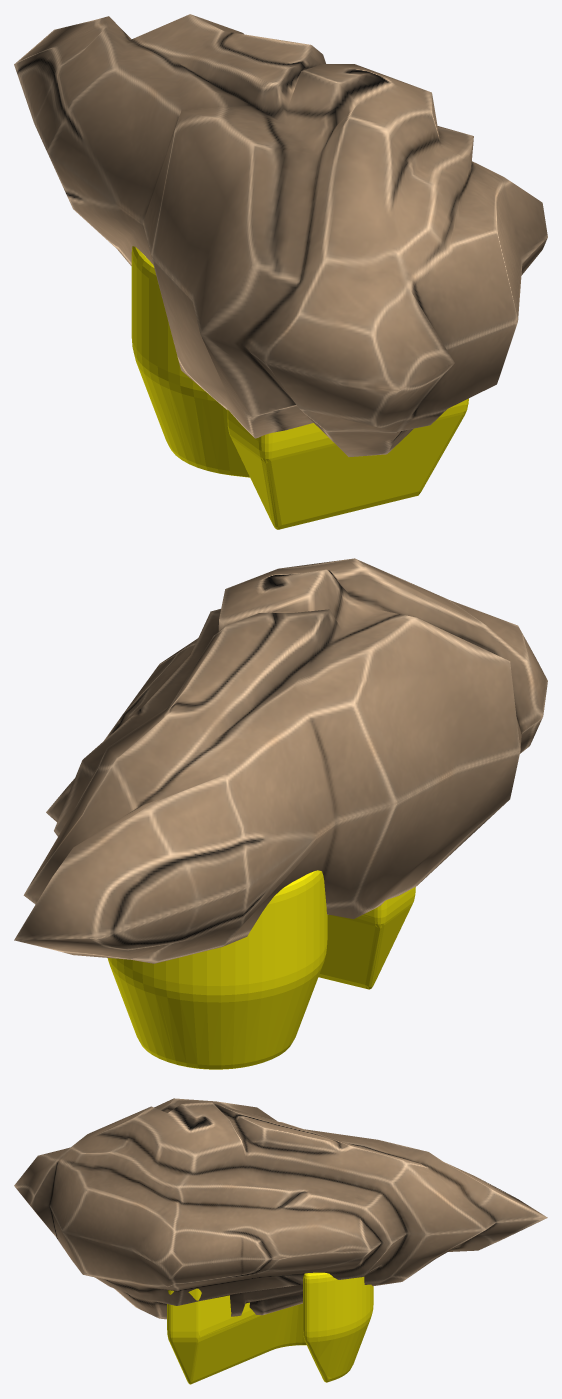
Rendered from astn2.fbx.
The picture shows the model from 3 angles, top to bottom: view 1: azimuth 30°, elevation 25°; view 2: azimuth 150°, elevation 25°; view 3: azimuth 270°, elevation 25°; orthographic projection. The views are drawn at different scales.
Parts seen in each view (by area): view 1: node_id62, node_id34; view 2: node_id62, node_id34; view 3: node_id62, node_id34.
Boxes of the visible parts, x1,y1,x2,y2 form: node_id62: (14, 14, 547, 456); node_id34: (131, 246, 468, 529); node_id62: (14, 558, 547, 963); node_id34: (107, 870, 415, 1069); node_id62: (14, 1098, 547, 1319); node_id34: (167, 1272, 373, 1384).
Size of the model in its own units: 47.34 by 53.68 by 101.
Materials: 2 (2 with a texture image).
